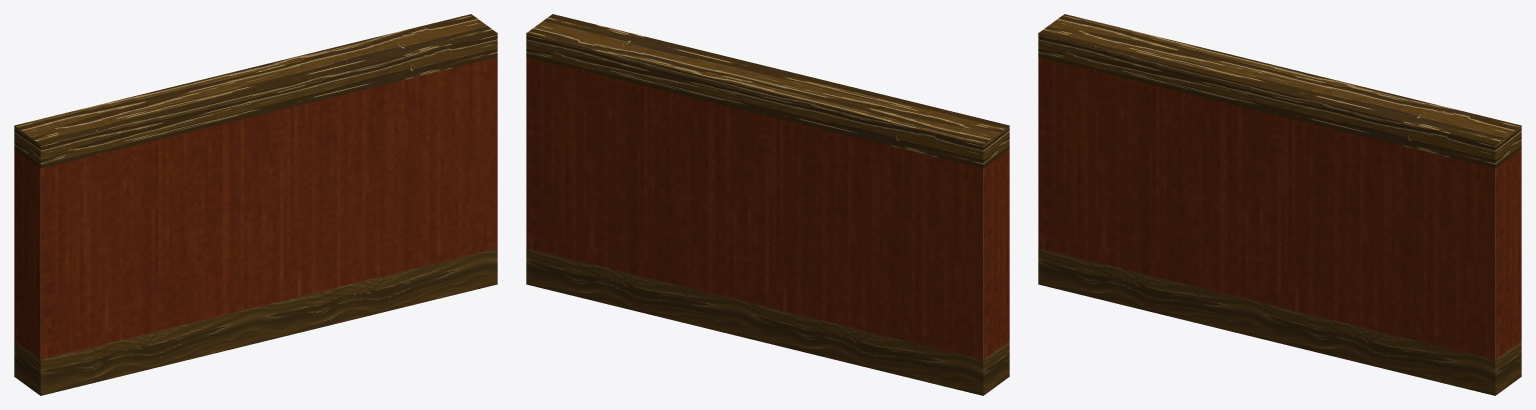
File: SM_Wall_Low_2m.fbx
The picture shows the model from 3 angles, left to right: view 1: azimuth 30°, elevation 25°; view 2: azimuth 150°, elevation 25°; view 3: azimuth 330°, elevation 25°; orthographic projection.
Parts seen in each view (by area): view 1: SM_Wall_Low_2m; view 2: SM_Wall_Low_2m; view 3: SM_Wall_Low_2m.
Part boxes in pixels (x1,y1,x2,y2): SM_Wall_Low_2m: (14,14,497,395); SM_Wall_Low_2m: (526,14,1009,395); SM_Wall_Low_2m: (1038,14,1521,395).
Bounding box in the file's own units: 2 × 1.05 × 0.2.
